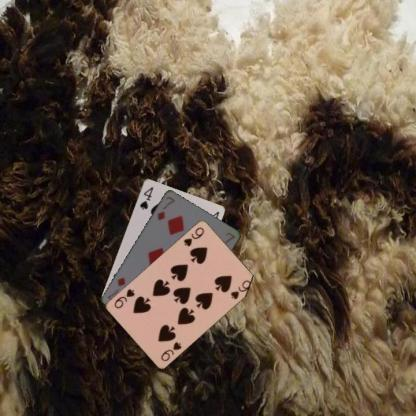4s: (137, 184, 154, 211)
7d: (155, 194, 176, 221)
9s: (157, 339, 183, 362), (181, 224, 205, 248)
